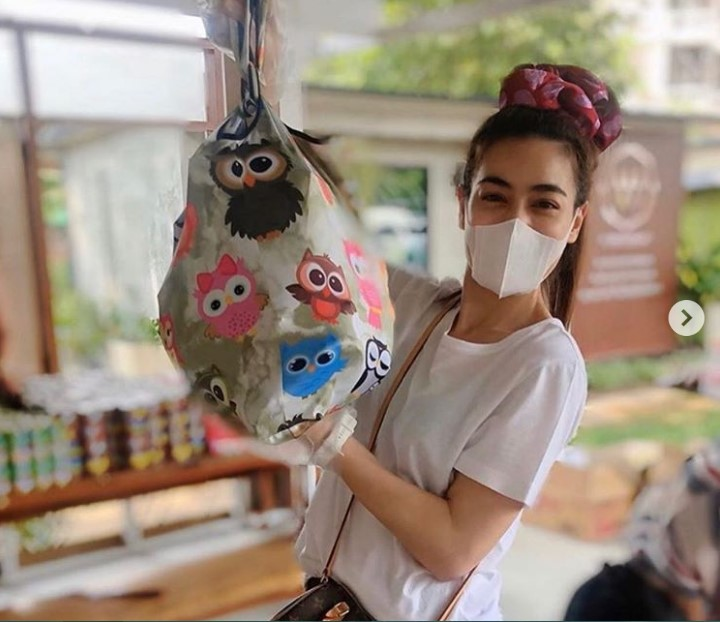face_with_mask: (455, 93, 599, 300)
